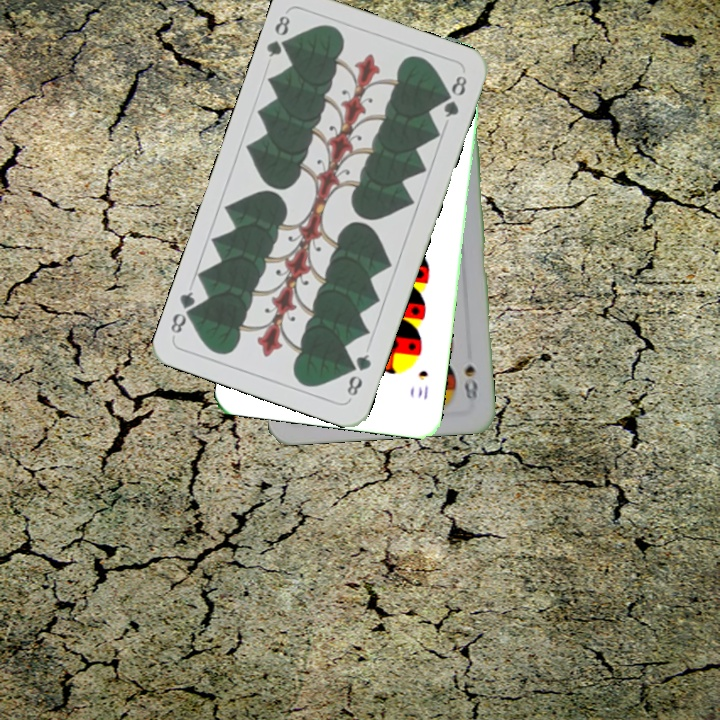G8: (262, 11, 295, 60), (343, 350, 374, 401)
S10: (414, 366, 431, 402)
S8: (460, 360, 480, 407)
